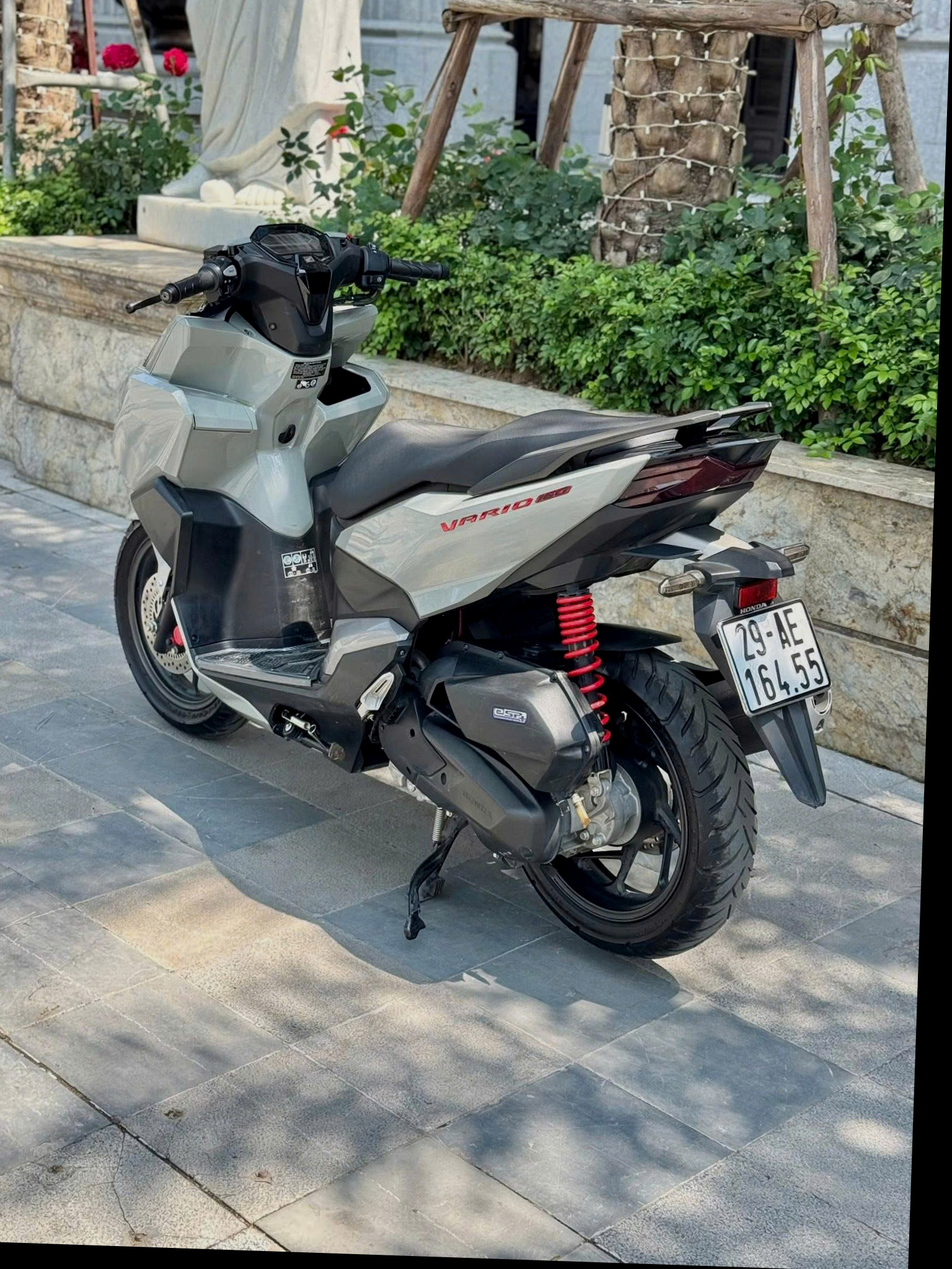Bien-so: (715, 594, 837, 721)
